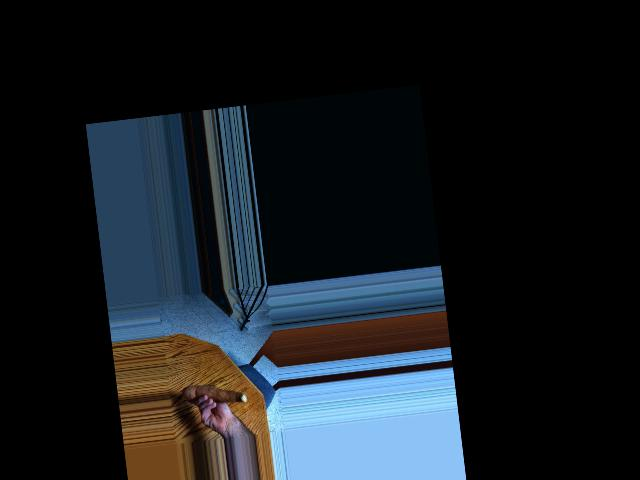sweet_potato: (184, 377, 244, 411)
